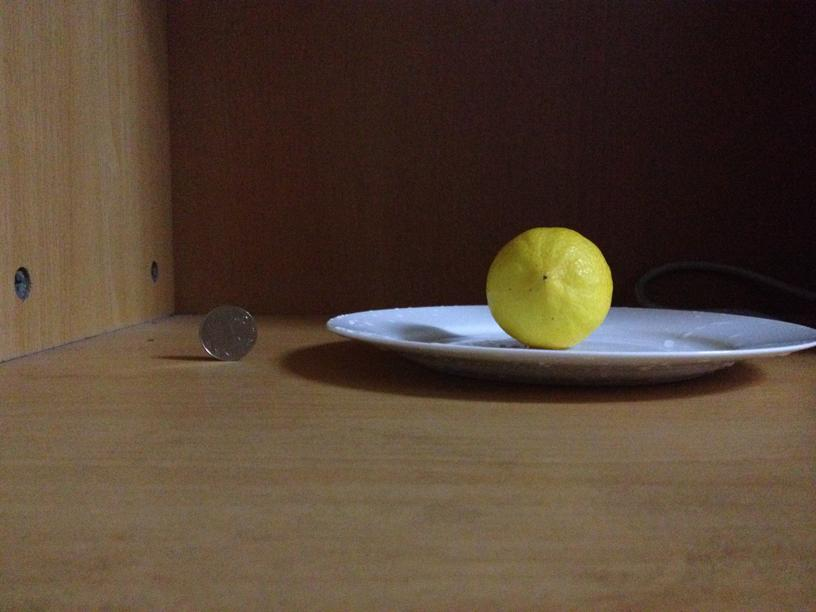coin: (197, 301, 257, 361)
lemon: (483, 222, 614, 348)
